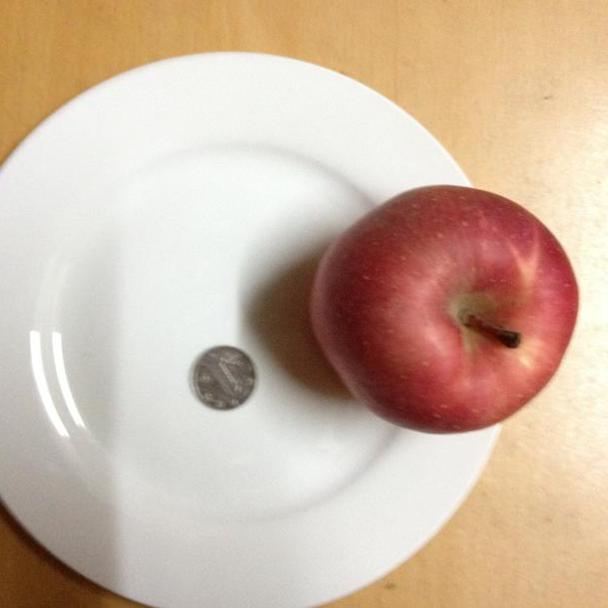apple: (310, 186, 581, 435)
